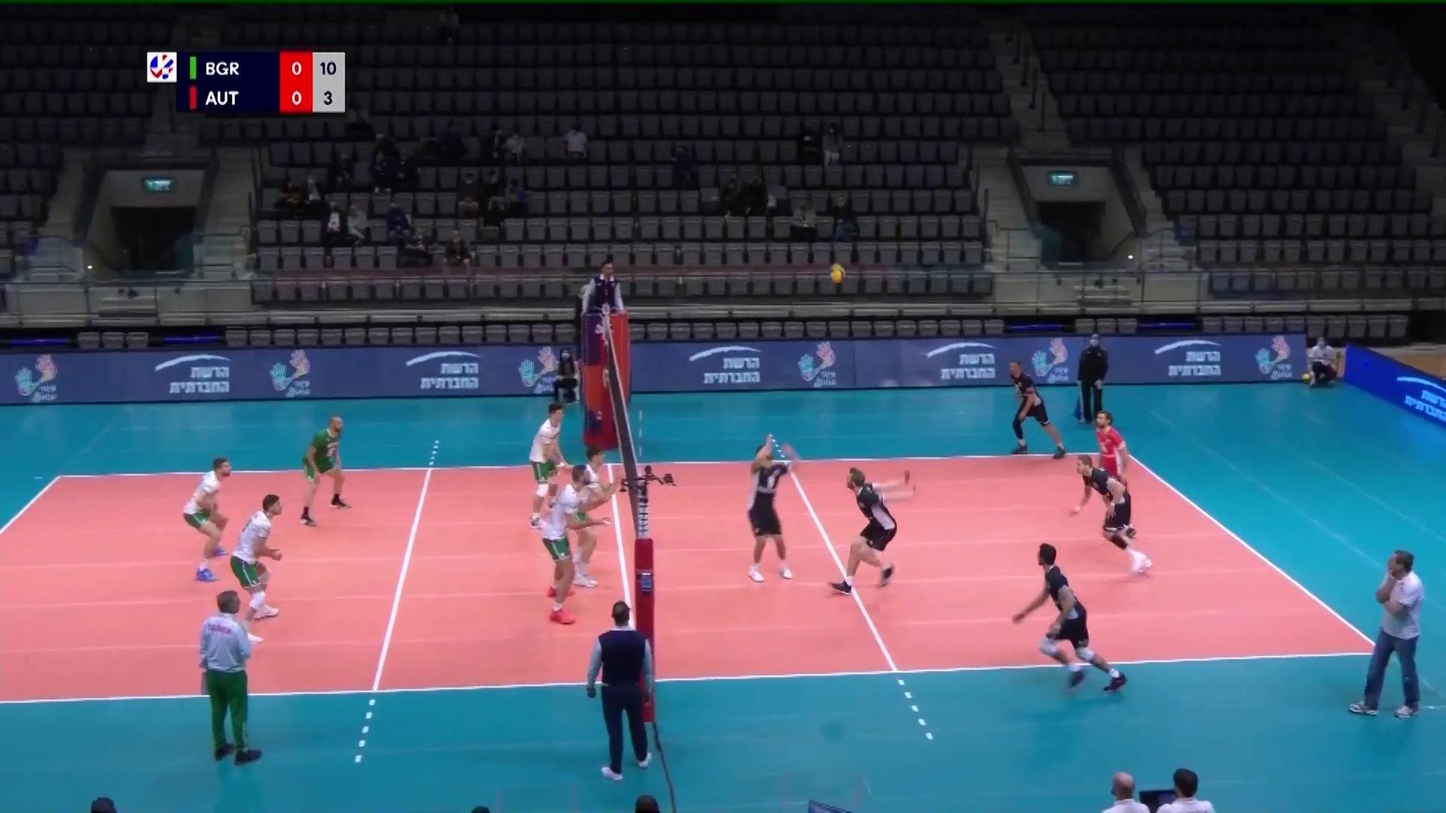ball: (829, 263, 845, 284)
